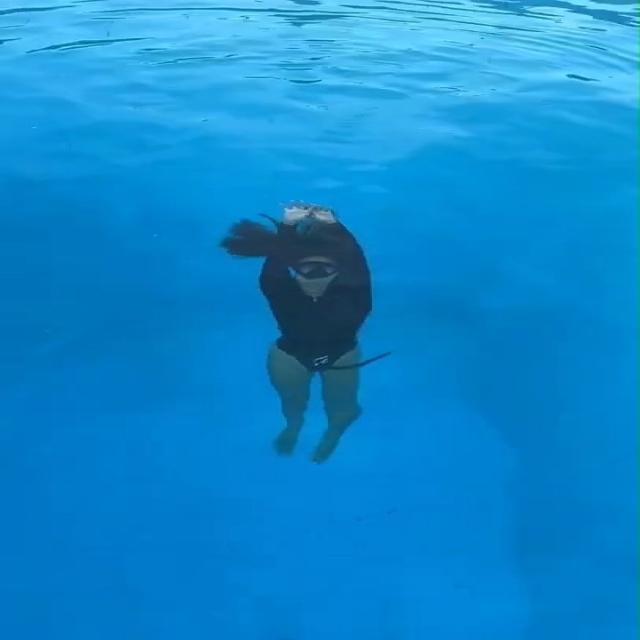Drowning: (219, 201, 397, 470)
